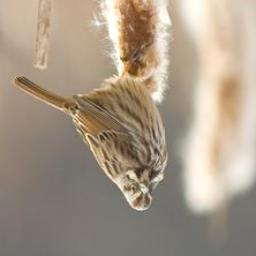Sparrow: (12, 37, 170, 213)
